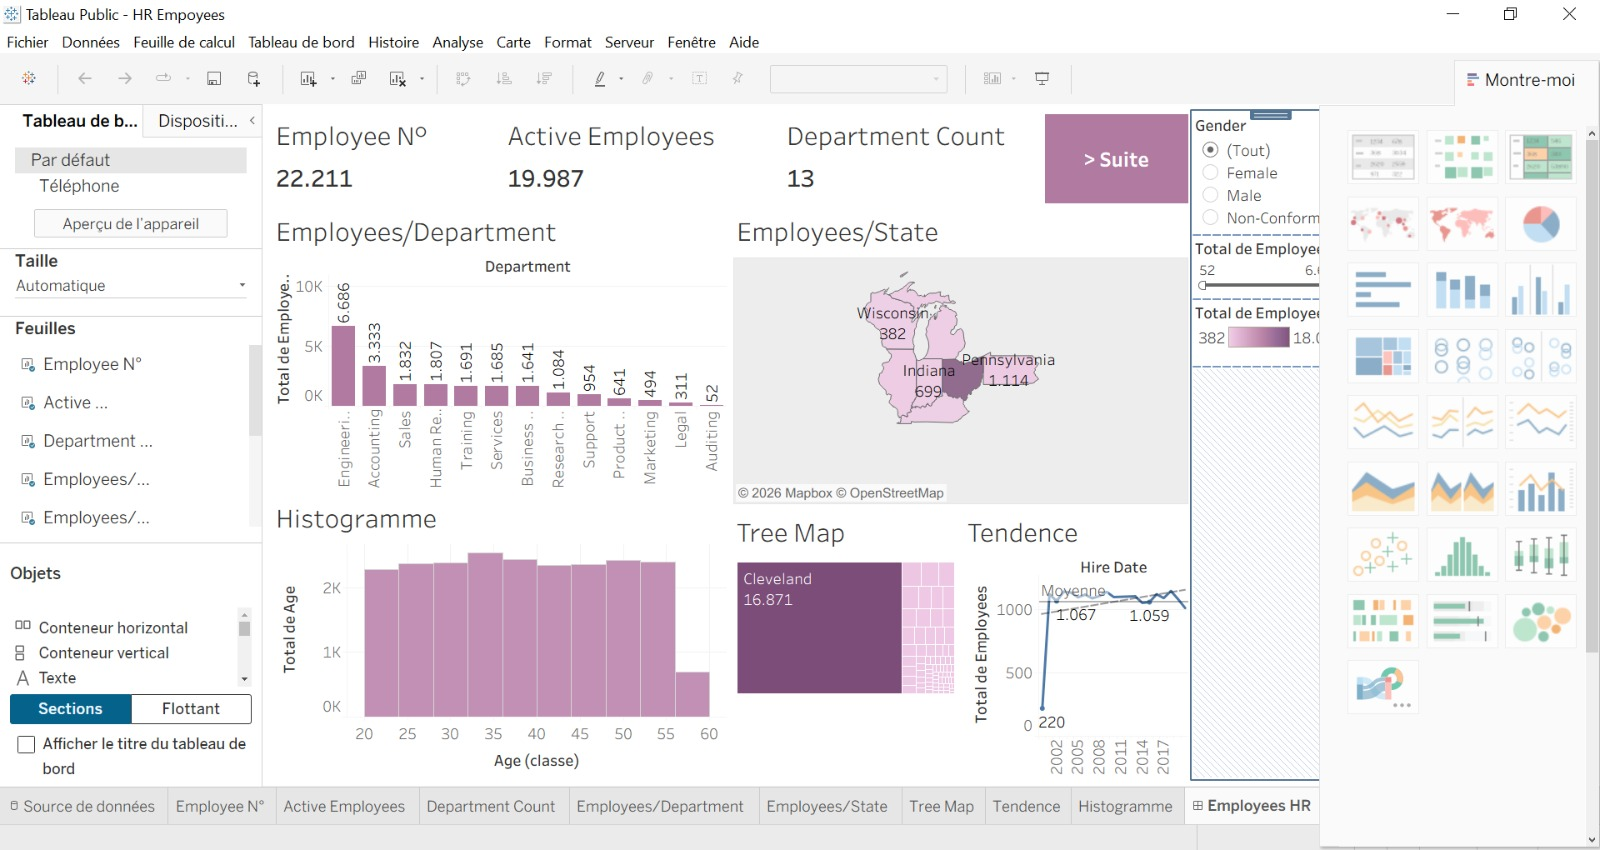

This screenshot's page, from the dashboard's own definition file:
{"tool":"tableau","page":{"name":"Employees HR","canvas":[1000,1000],"units":"permille","ordinal":0},"visuals":[{"type":"worksheet","title":"Employee N°","mark":"Automatic","box":[6.1,12.4,211.7,139.9]},{"type":"worksheet","title":"Active Employees","mark":"Automatic","box":[217.8,12.4,255.1,139.9]},{"type":"worksheet","title":"Department Count","mark":"Automatic","box":[473,12.4,239.2,139.9]},{"type":"dashboard-object","box":[712.1,12.4,137.1,139.9]},{"type":"filter","title":"Employees/Department","param":"[federated.1rgdl3n0norabs162obc81cpk0es].[none:Gender:nk]","box":[849.2,12.4,144.7,175.7]},{"type":"worksheet","title":"Employees/Department","mark":"Automatic","rows":["Employees_FC66C24DAD8E461FAFE3E1E9379A1105"],"cols":["Department"],"box":[6.1,152.4,421.5,417.6]},{"type":"worksheet","title":"Employees/State","mark":"Automatic","box":[427.6,152.4,421.6,438.6]},{"type":"filter","title":"Employees/Department","param":"[federated.1rgdl3n0norabs162obc81cpk0es].[__tableau_internal_object_id__].[cnt:E","box":[849.2,188.2,144.7,108.9]},{"type":"legend","title":"Employees/State","param":"[federated.1rgdl3n0norabs162obc81cpk0es].[__tableau_internal_object_id__].[cnt:E","box":[849.2,297,144.7,105.8]},{"type":"worksheet","title":"Histogramme","mark":"Automatic","rows":["Age"],"cols":["Age (classe)"],"box":[6.1,570,421.5,417.6]},{"type":"worksheet","title":"Tree Map","mark":"Automatic","box":[427.6,591,210.8,396.6]},{"type":"worksheet","title":"Tendence","mark":"Automatic","rows":["Employees_FC66C24DAD8E461FAFE3E1E9379A1105"],"cols":["Hire Date"],"box":[638.4,591,210.8,396.6]}]}

Visuals, with their boxes on the dashboard's canvas, which has no fixed pixel size, in thousandths of its width and height (x1, y1, x2, y2). These are canvas units, not pixel positions in the 1600x850 screenshot, which may show the page scaled, cropped or inside an application window:
"Employee N°" worksheet: 6 12 218 152
"Active Employees" worksheet: 218 12 473 152
"Department Count" worksheet: 473 12 712 152
dashboard-object: 712 12 849 152
"Employees/Department" filter: 849 12 994 188
"Employees/Department" worksheet: 6 152 428 570
"Employees/State" worksheet: 428 152 849 591
"Employees/Department" filter: 849 188 994 297
"Employees/State" legend: 849 297 994 403
"Histogramme" worksheet: 6 570 428 988
"Tree Map" worksheet: 428 591 638 988
"Tendence" worksheet: 638 591 849 988
